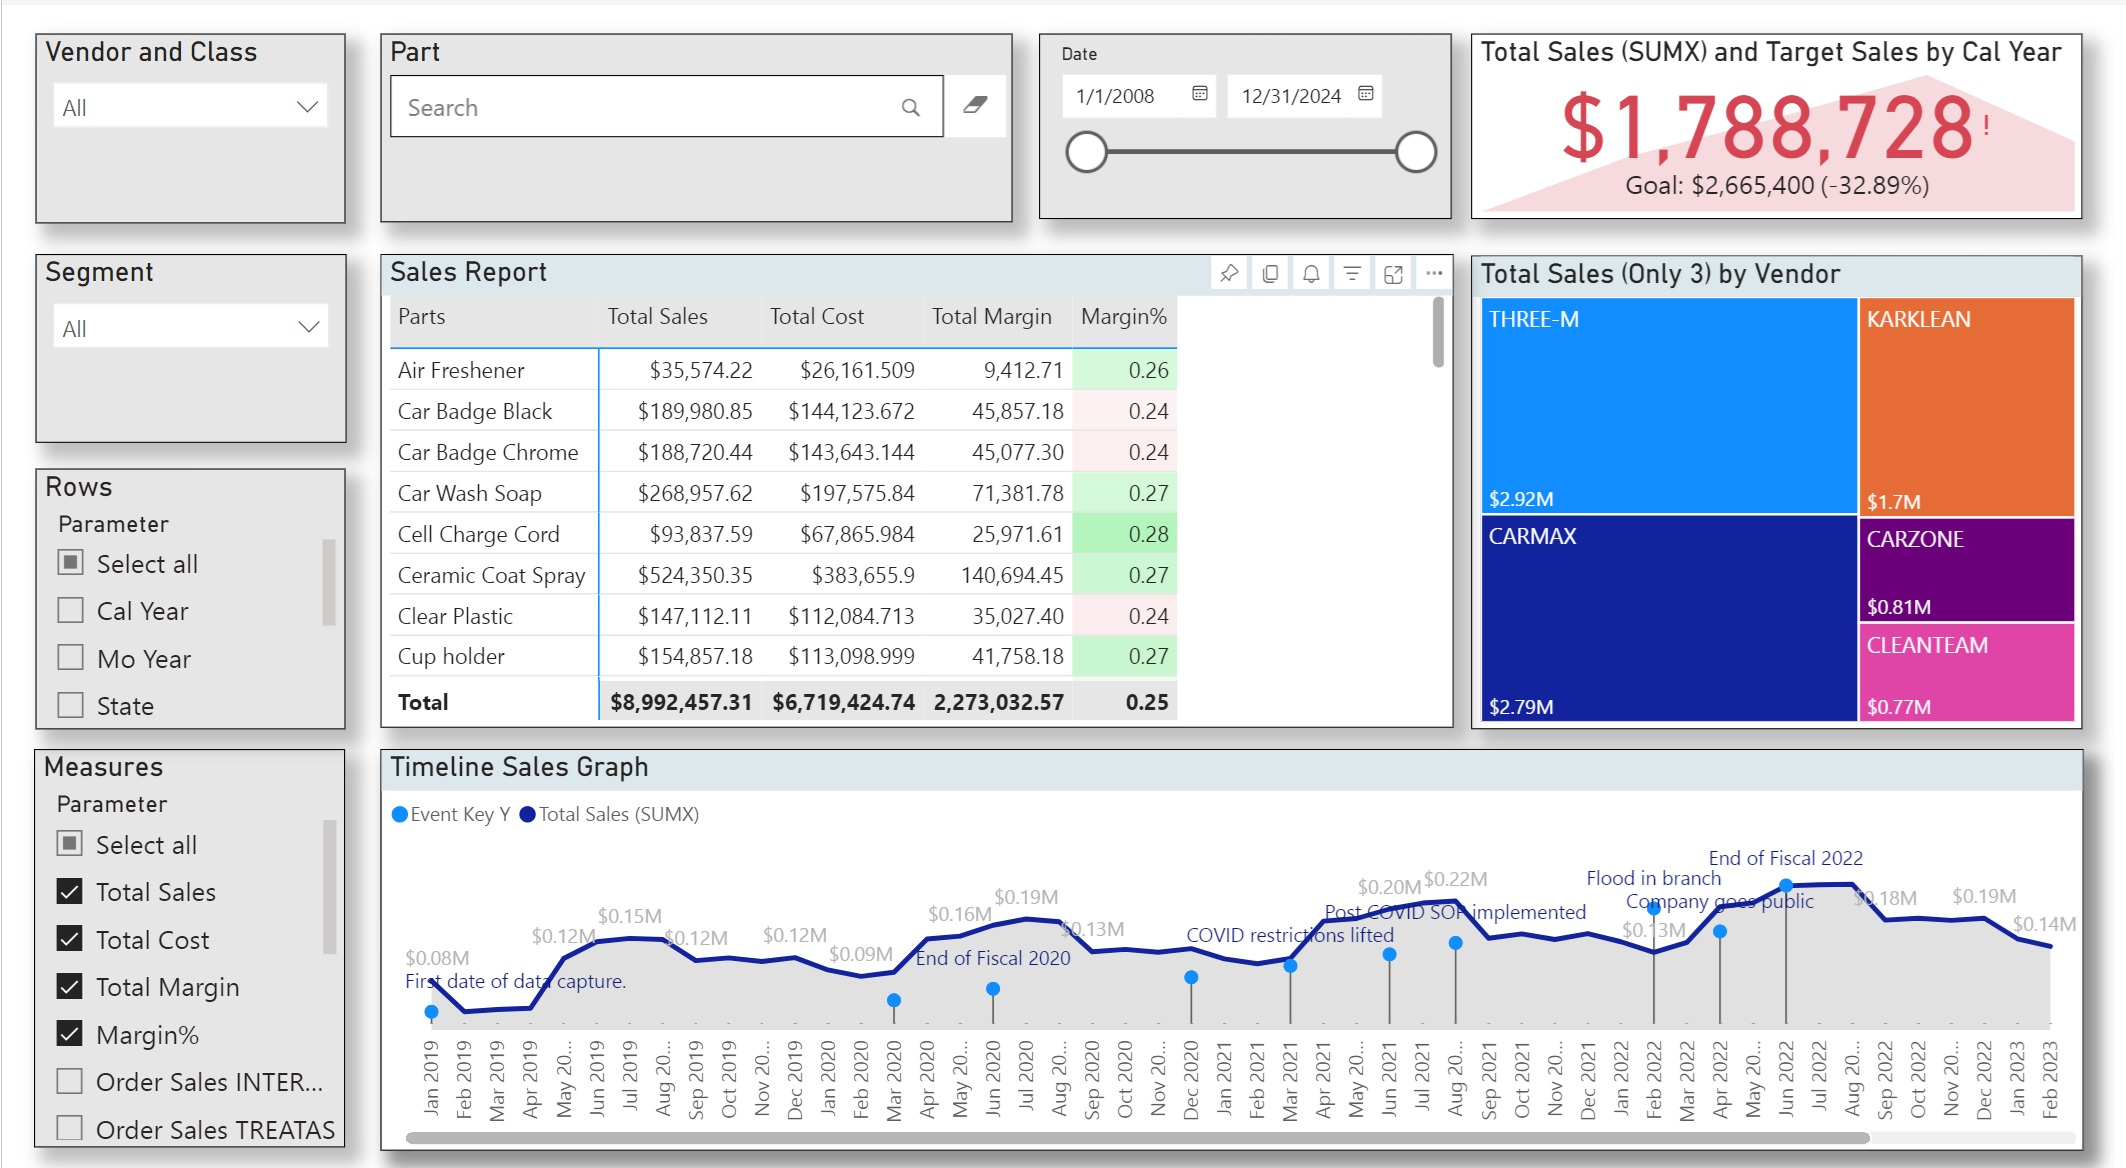

What the dashboard file says about the page in this screenshot:
{"tool":"powerbi","page":{"name":"Event Graph","canvas":[1280,720],"ordinal":5},"visuals":[{"type":"slicer","title":"Vendor and Class","fields":{"Values":["Part_Dim.Vendor","Part_Dim.Class"]},"box":[10,17,189,116],"z":0},{"type":"slicer","title":"Segment","fields":{"Values":["Customer_Dim.Segment"]},"box":[10,152,190,115],"z":1000},{"type":"textFilter25A4896A83E0487089E2B90C9AE57C8A","title":"Part","fields":{"field":["Part_Dim.Parts"]},"box":[221,17,386,115],"z":2000},{"type":"slicer","fields":{"Values":["Time_Dim.Date"]},"box":[623,17,252,113],"z":3000},{"type":"kpi","fields":{"Goal":["_Measures.Target Sales"],"Indicator":["_Measures.Total Sales (SUMX)"],"TrendLine":["Time_Dim.Cal Year"]},"box":[887,17,373,113],"z":4000},{"type":"treemap","fields":{"Group":["Part_Dim.Vendor","Part_Dim.Class","Part_Dim.Part"],"Values":["_Measures.Total Sales (Only 3)"]},"box":[887,153,373,289],"z":5000},{"type":"lineChart","title":"Timeline Sales Graph","fields":{"Category":["Time_Dim.Mo Year"],"Y":["_Measures.Event Key Y"],"Y2":["_Measures.Total Sales (SUMX)"]},"box":[221,454,1039,245],"z":6000},{"type":"slicer","title":"Measures","fields":{"Values":["Parameter.Parameter"]},"box":[9,454,190,243],"z":7000},{"type":"slicer","title":"Rows","fields":{"Values":["Parameter - Rows 2.Parameter - Rows"]},"box":[10,283,189,159],"z":8000},{"type":"pivotTable","title":"Sales Report","fields":{"Rows":["Part_Dim.Parts"],"Values":["_Measures.Total Sales (SUMX)","_Measures.Total Cost (SUMX)","_Measures.Total Margin","_Measures.Margin %"]},"box":[221,152,655,289],"z":9000},{"type":"lineChart","title":"Timeline Sales Graph","fields":{"Category":["Time_Dim.Mo Year"],"Y":["_Measures.Event Key Y"],"Y2":["_Measures.Total Sales (SUMX)"]},"box":[221.1,454.4,1039.8,245.6],"z":10000}]}

Visuals, with their boxes in screenshot pixels (x1, y1, x2, y2), scaled from the page's 1280x720 canvas onto the 2126x1168 screenshot:
"Vendor and Class" slicer: region(17, 28, 331, 216)
"Segment" slicer: region(17, 247, 332, 433)
"Part" textFilter25A4896A83E0487089E2B90C9AE57C8A: region(367, 28, 1008, 214)
slicer - Time_Dim.Date: region(1035, 28, 1453, 211)
kpi - _Measures.Target Sales x _Measures.Total Sales (SUMX): region(1473, 28, 2093, 211)
treemap - Part_Dim.Vendor x Part_Dim.Class: region(1473, 248, 2093, 717)
"Timeline Sales Graph" lineChart: region(367, 736, 2093, 1134)
"Measures" slicer: region(15, 736, 331, 1131)
"Rows" slicer: region(17, 459, 331, 717)
"Sales Report" pivotTable: region(367, 247, 1455, 715)
"Timeline Sales Graph" lineChart: region(367, 737, 2094, 1136)
